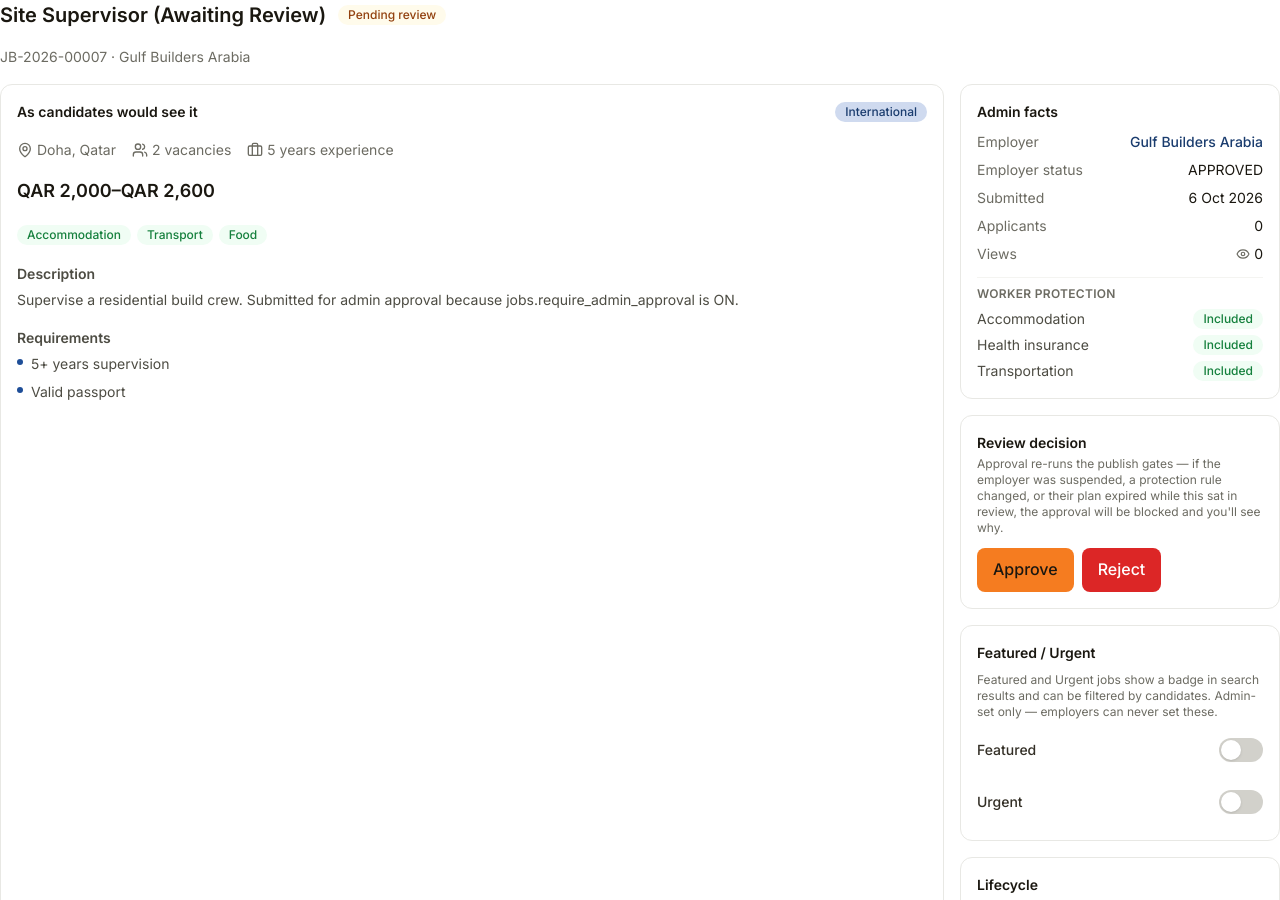
Test: review resolution › approve (all gates pass) → ACTIVE; the queue count drops; success is stated
Expected: the heading "Site Supervisor (Awaiting Review)" is shown, top-left (0, 0), bottom-right (326, 30)
Click the button "Approve": x=1025, y=570 top-left (977, 548), bottom-right (1074, 592)
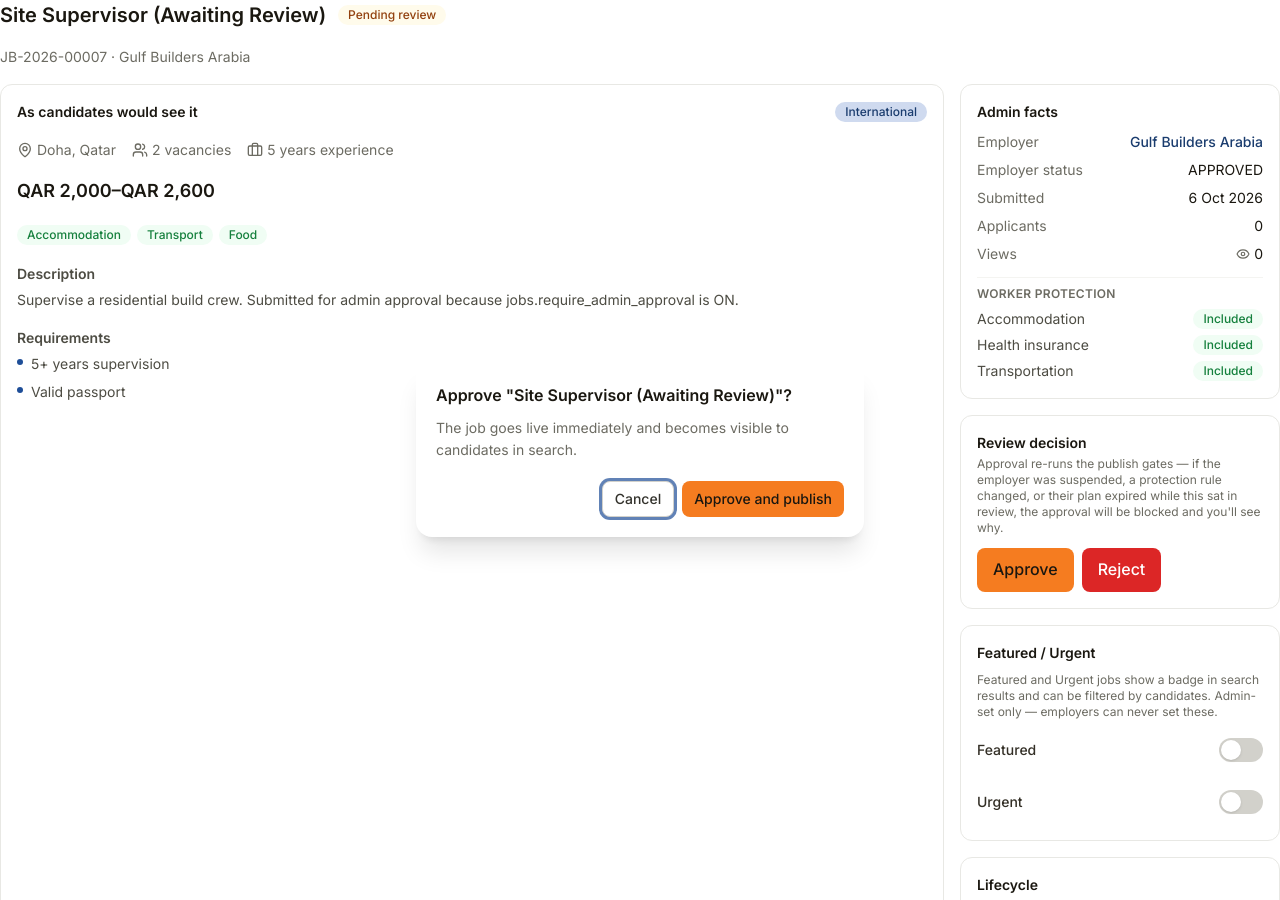
Click the button "Approve and publish": x=763, y=499 top-left (682, 481), bottom-right (844, 517)
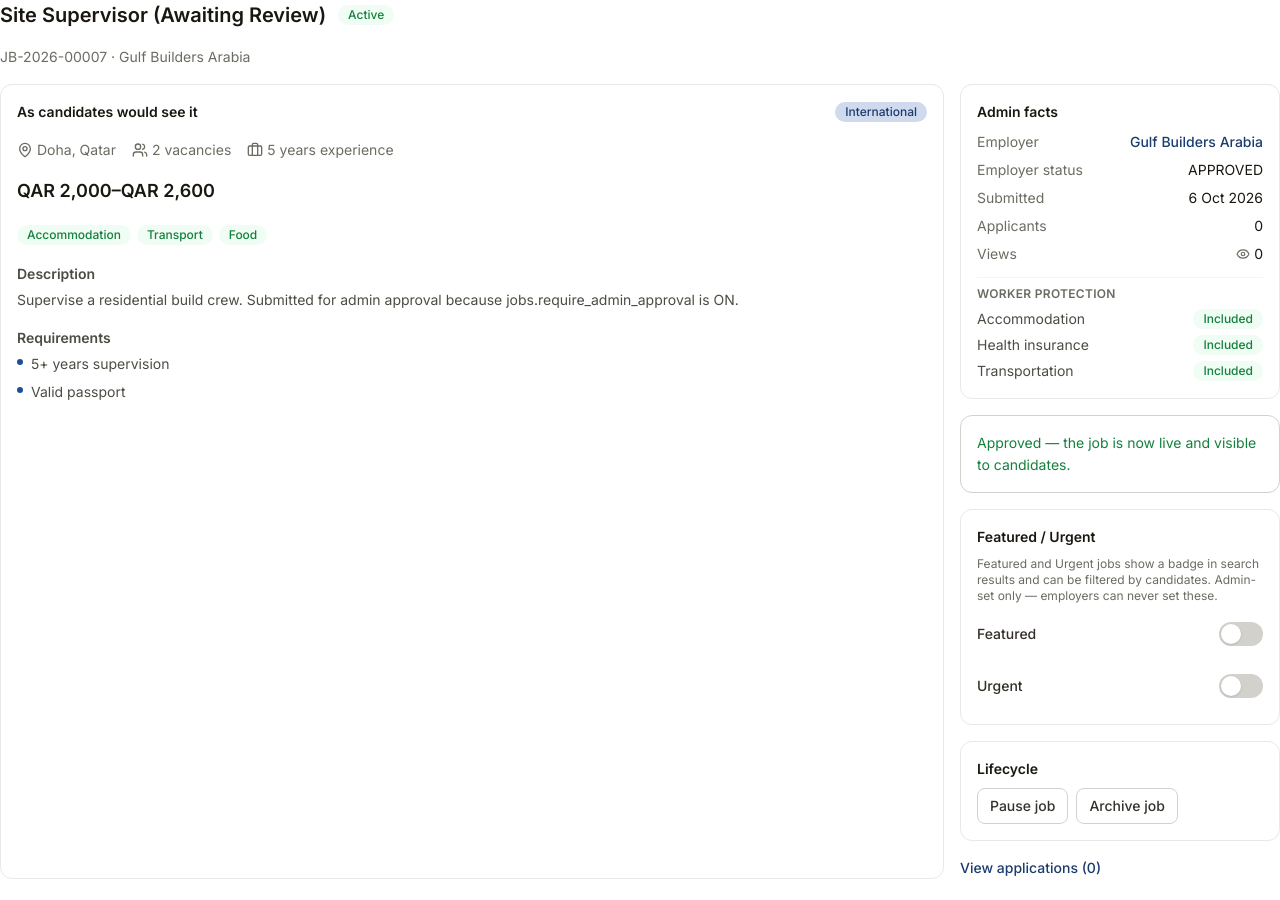
Expected: the text "Approved — the job is now live and visible to candidates." is shown, top-left (960, 415), bottom-right (1279, 493)
